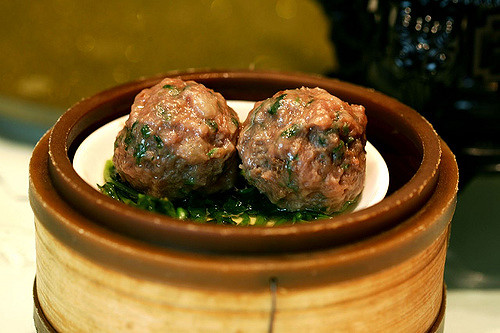meatballs: (246, 86, 359, 212), (121, 82, 235, 200)
